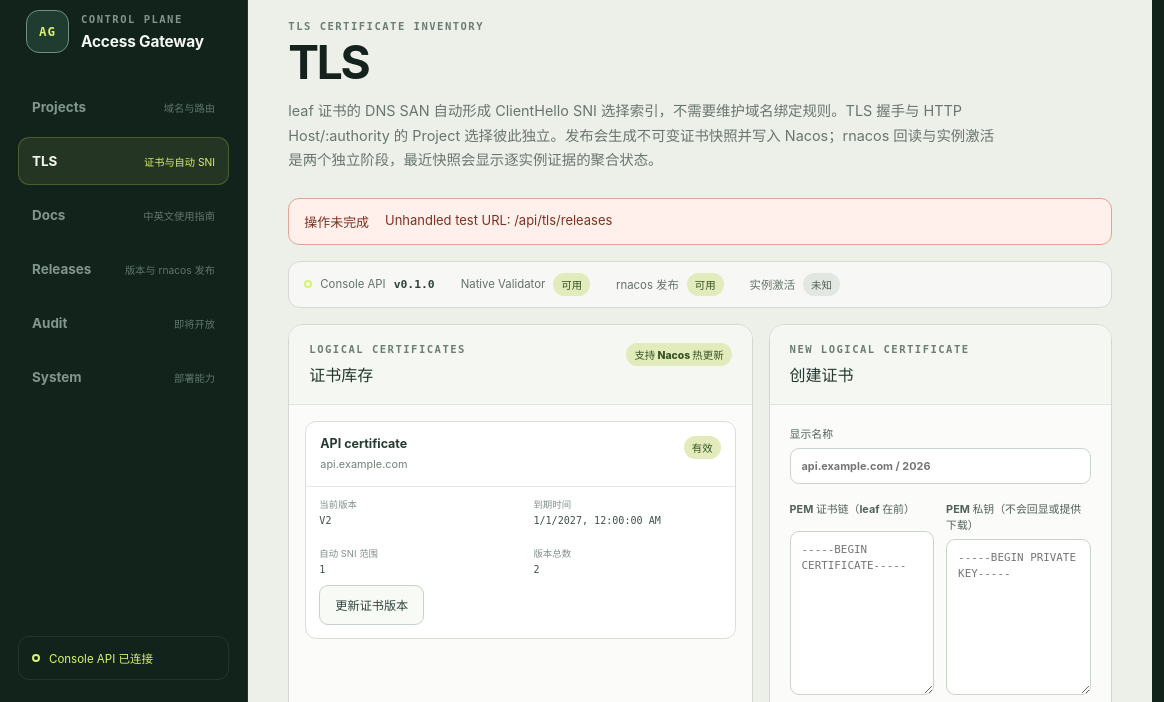
Test case: application routes › updates one logical certificate through an immutable version workflow
Expected: the text "API certificate" is shown, [320,436,408,450]
Click the button "更新证书版本" at [372, 605], box [319,585,424,625]
(page scrolled)
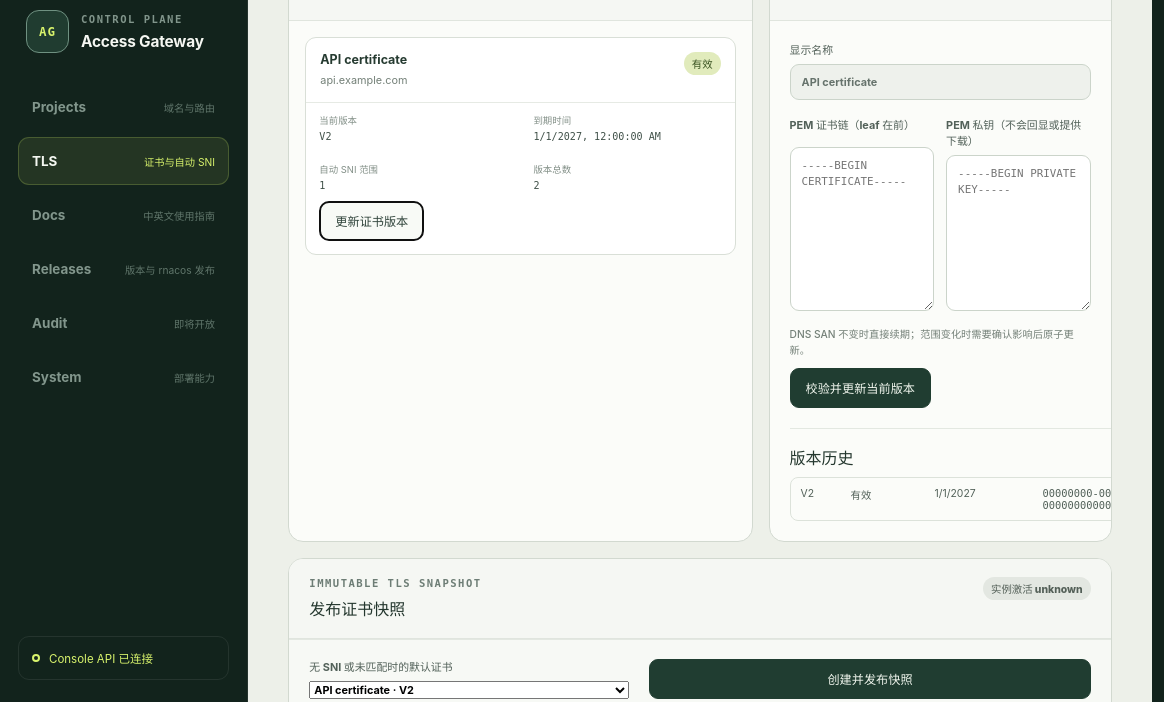
Expected: the text "V2" next to "1/1/2027, 12:00:00 AM" is shown, [319,131,332,142]
Result: the text "DNS SAN 不变时直接续期；范围变化时需要确认影响后原子更新。" is shown at [790,327,1091,358]
